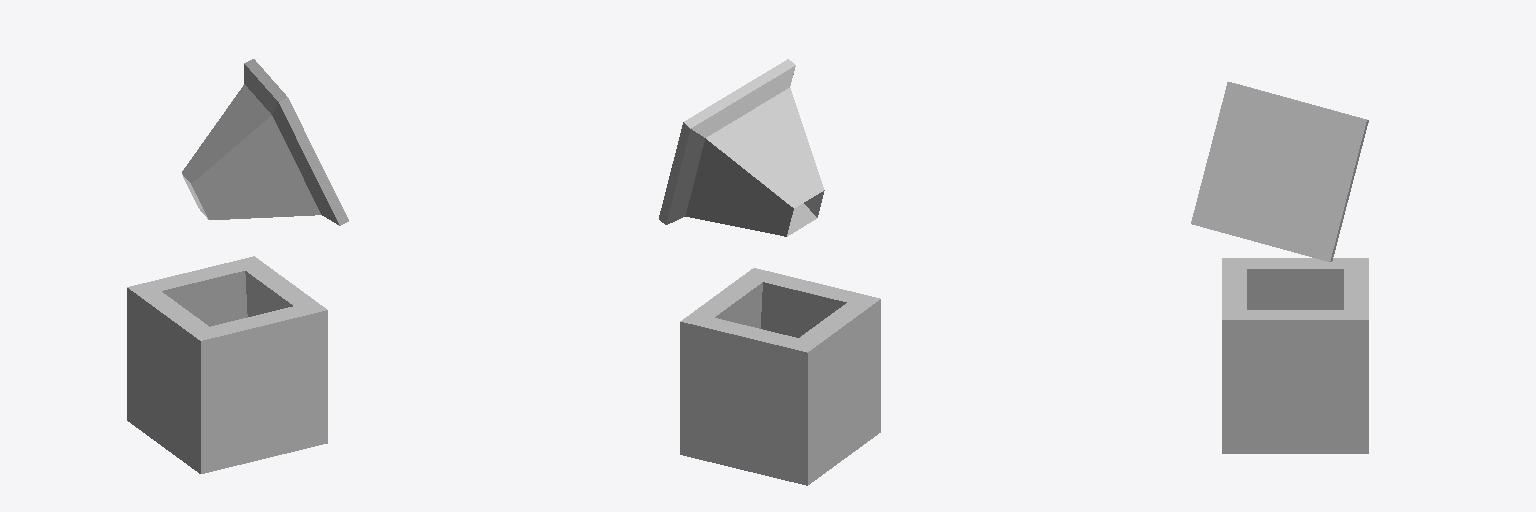
The model's file is AnimatedBox_000071.obj.
The picture shows the model from 3 angles: view 1: azimuth 30°, elevation 25°; view 2: azimuth 150°, elevation 25°; view 3: azimuth 270°, elevation 25°; orthographic projection.
Visible parts, largest first — view 1: Cube, Cube.001; view 2: Cube, Cube.001; view 3: Cube, Cube.001.
Part boxes in pixels (left/top/right/bottom): Cube: left=127, top=256, right=327, bottom=473; Cube.001: left=182, top=59, right=348, bottom=225; Cube: left=680, top=268, right=880, bottom=485; Cube.001: left=659, top=59, right=824, bottom=236; Cube: left=1222, top=258, right=1368, bottom=453; Cube.001: left=1191, top=82, right=1368, bottom=261.
Size of the model in its own units: 2.65 by 5.3 by 2.43.